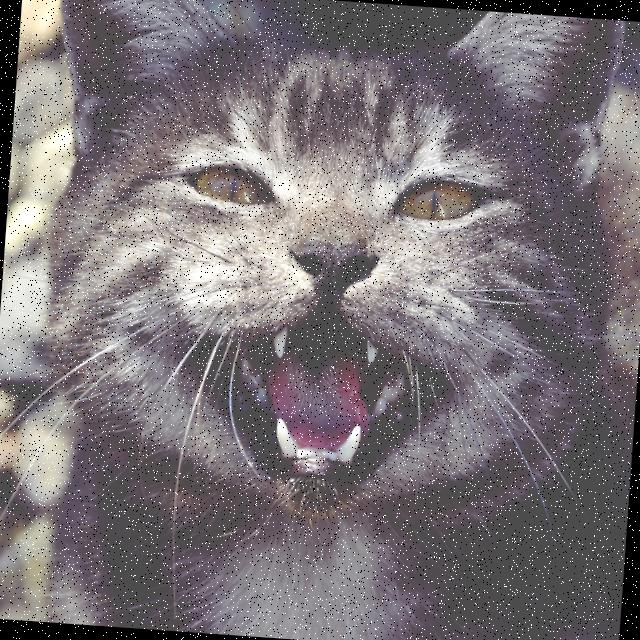Angry: (110, 105, 531, 538)
